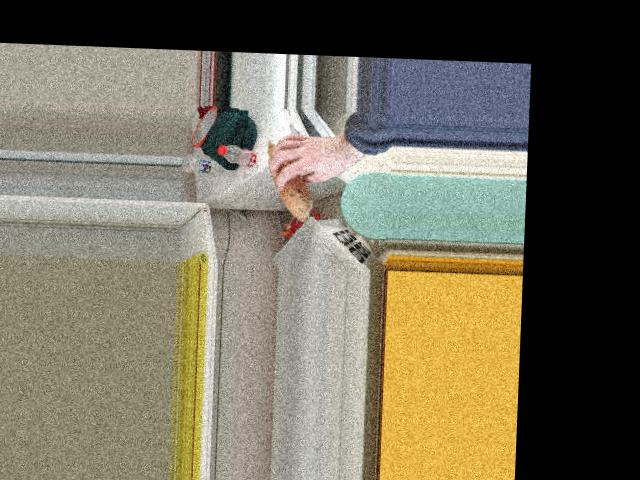sweet_potato: (264, 136, 314, 218)
